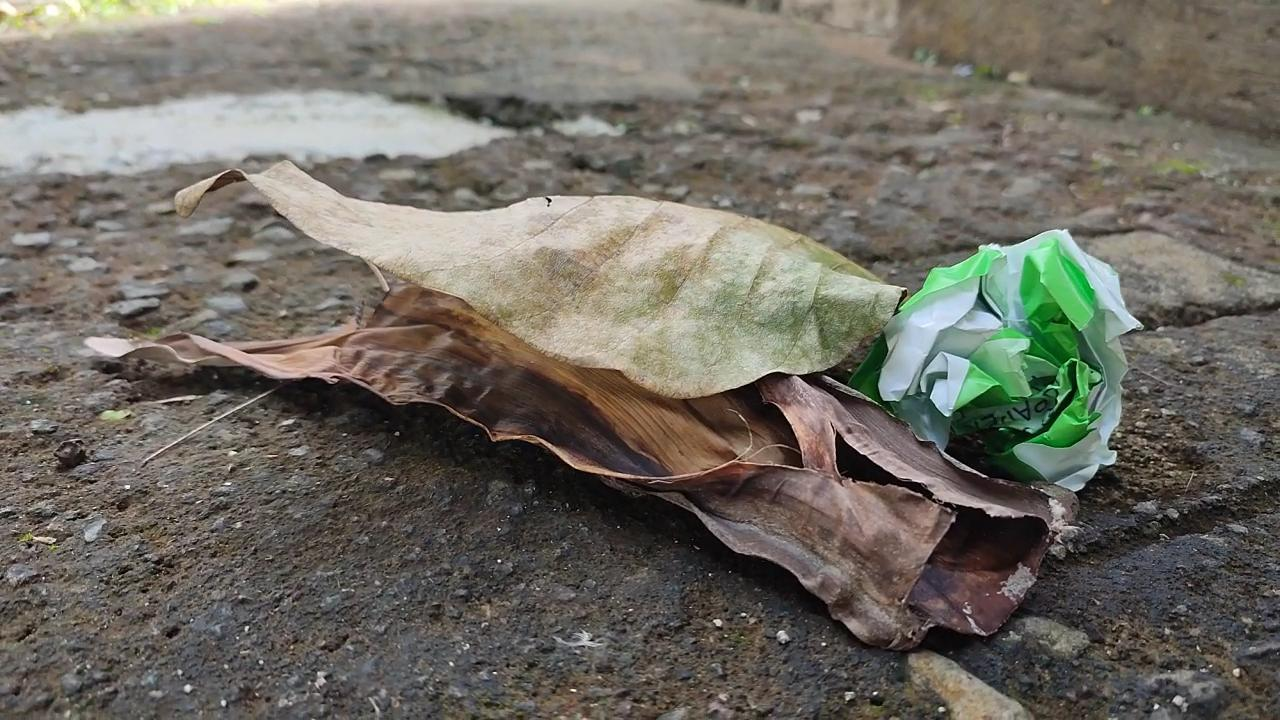Paper: (866, 222, 1137, 493)
